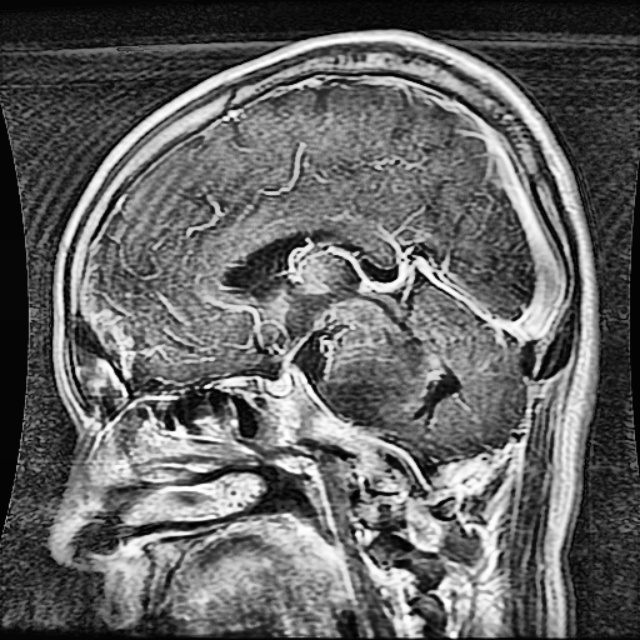Meningioma: (314, 338, 433, 424)
